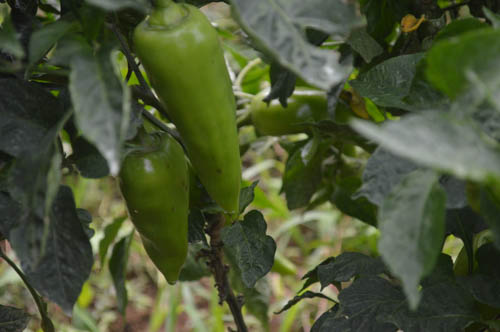ChiliPepper: (139, 8, 241, 223), (120, 132, 192, 286), (252, 85, 352, 137)
